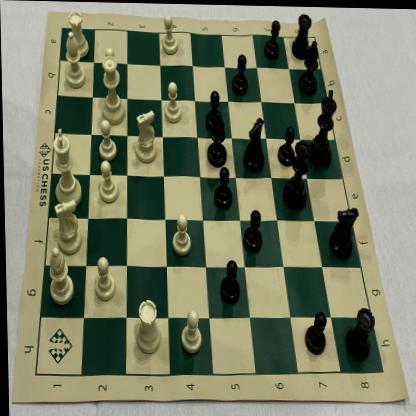black-bishop: (298, 39, 320, 95), (207, 109, 228, 164)
black-knight: (306, 86, 338, 166), (328, 202, 359, 260), (240, 116, 266, 174)
black-pawn: (303, 307, 326, 355), (217, 257, 240, 304), (210, 165, 232, 210), (242, 207, 262, 253), (276, 123, 295, 167), (204, 88, 223, 132), (230, 52, 249, 95), (262, 18, 281, 60)
black-queen: (285, 139, 308, 209)
black-rook: (344, 303, 376, 362), (291, 10, 313, 60)
white-bishop: (45, 246, 74, 306), (62, 30, 87, 90)
white-king: (51, 127, 82, 211)
white-knight: (133, 108, 158, 164)
white-pawn: (178, 309, 202, 355), (96, 158, 119, 205), (171, 207, 190, 257), (96, 119, 118, 162), (94, 257, 115, 300), (163, 80, 182, 124), (101, 45, 120, 87), (160, 14, 179, 55)
white-queen: (97, 54, 126, 125)
white-rook: (133, 297, 161, 355), (68, 10, 89, 60)
